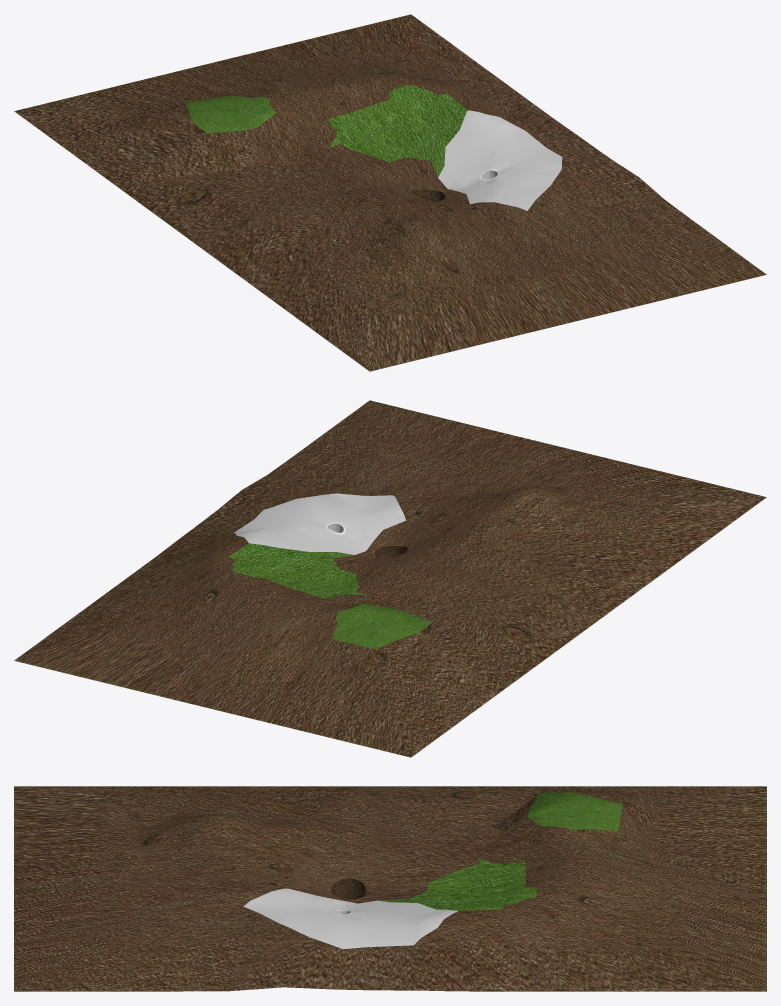
The model's file is Hole011alternate.fbx.
3 views of the same model, one above another, from view 1: azimuth 30°, elevation 25°; view 2: azimuth 150°, elevation 25°; view 3: azimuth 270°, elevation 25° (orthographic). The views are drawn at different scales.
Visible parts, largest first — view 1: nurbsToPoly8; view 2: nurbsToPoly8; view 3: nurbsToPoly8.
Boxes of the visible parts, <box> form: nurbsToPoly8: <box>14,14,766,371</box>; nurbsToPoly8: <box>14,400,766,757</box>; nurbsToPoly8: <box>14,786,766,991</box>.
Bounding box in the file's own units: 321 × 46.53 × 498.
